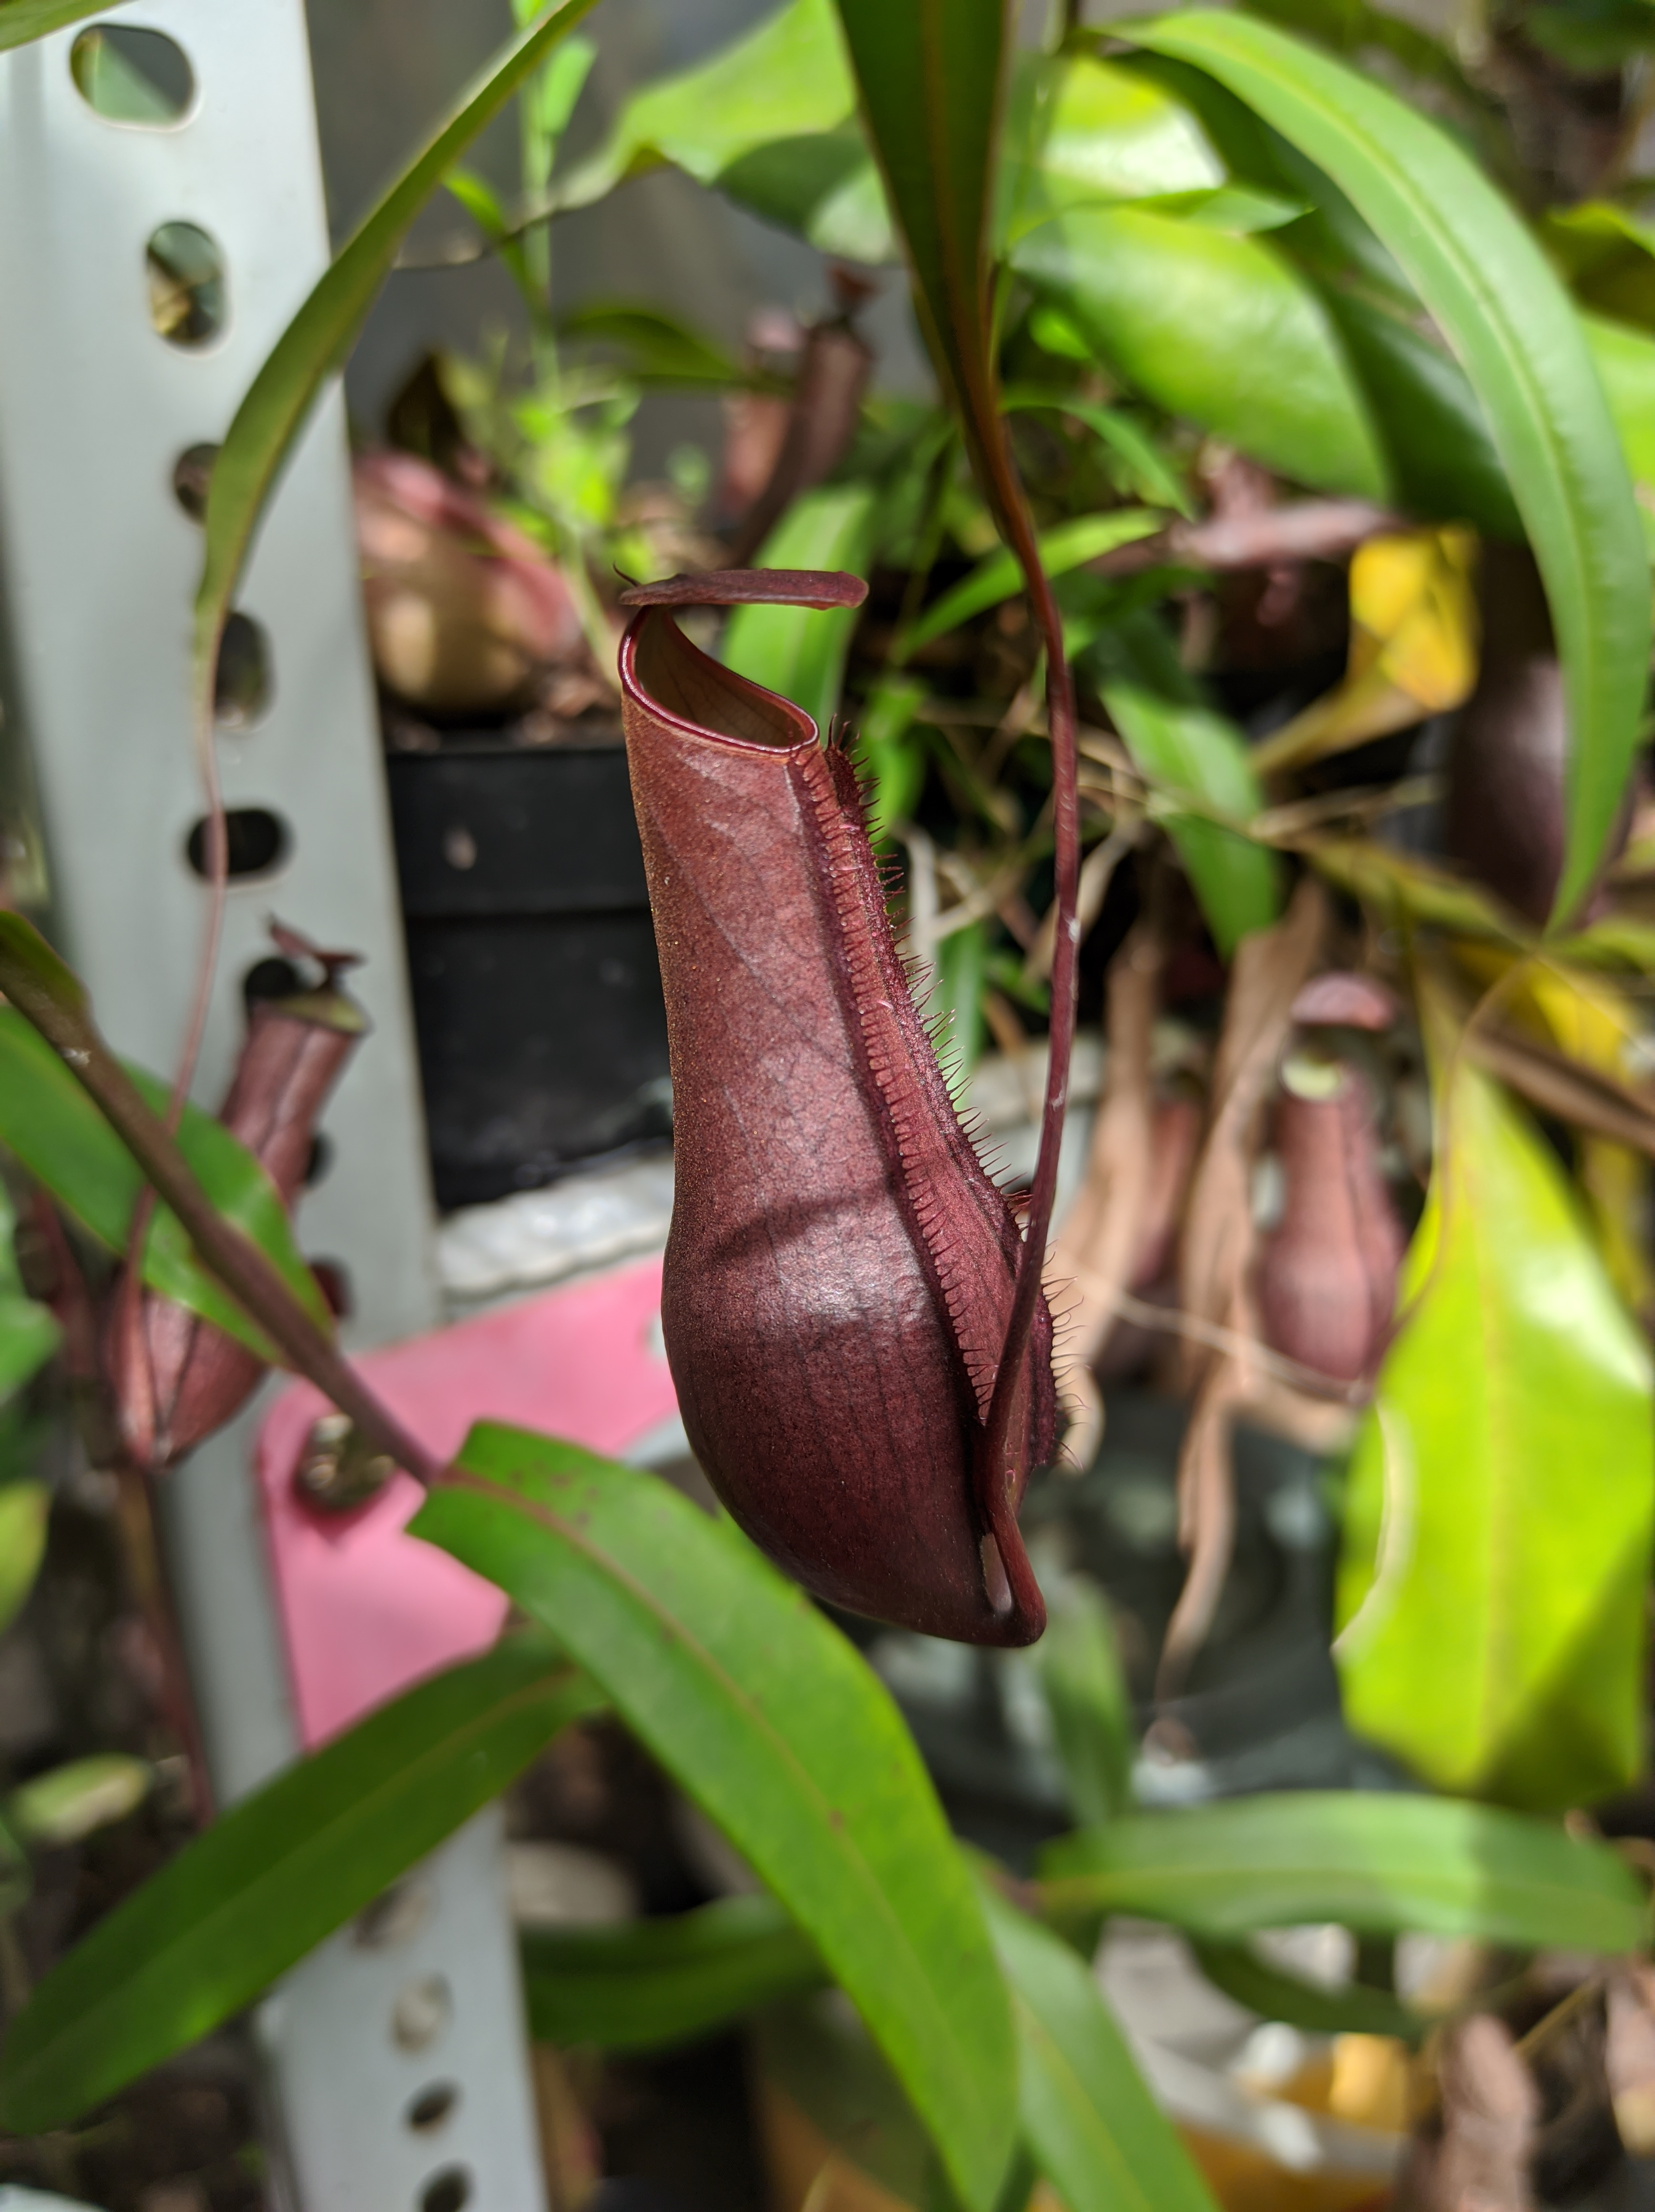Gracilis: (518, 510, 1113, 1709)
